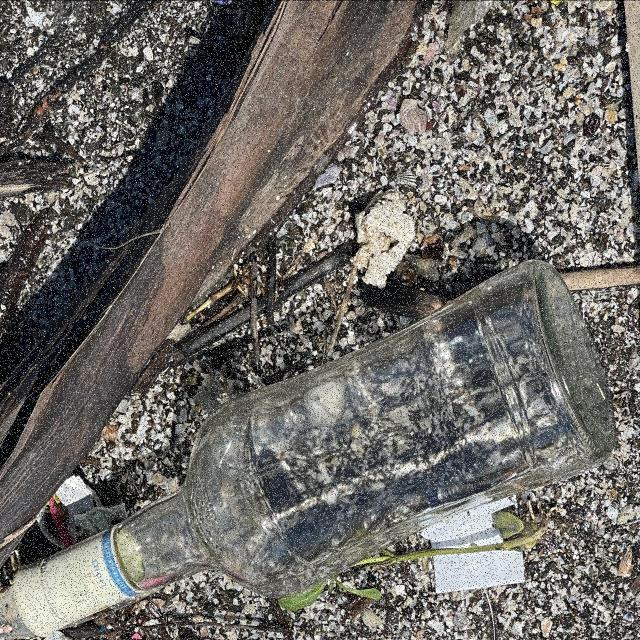glass_waste: (11, 256, 617, 640)
